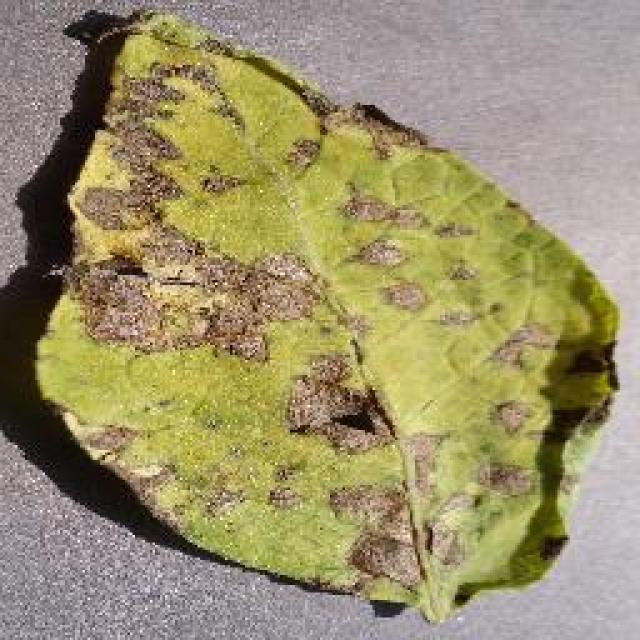early_blight: (27, 3, 625, 625)
